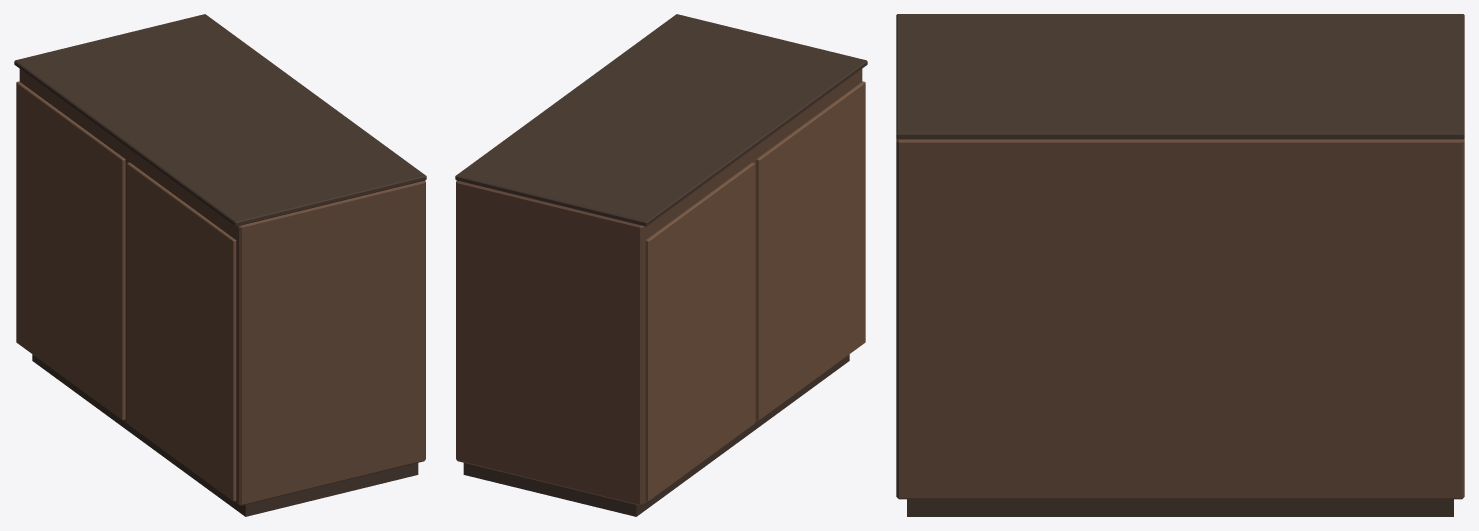
File: cabinet.glb
The picture shows the model from 3 angles, left to right: view 1: azimuth 30°, elevation 25°; view 2: azimuth 150°, elevation 25°; view 3: azimuth 270°, elevation 25°; orthographic projection. The views are drawn at different scales.
Visible parts, largest first — view 1: cabinet; view 2: cabinet; view 3: cabinet.
Part boxes in pixels (x1,y1,x2,y2): cabinet: (14,14,426,516); cabinet: (455,14,867,516); cabinet: (896,14,1464,516).
Bounding box in the file's own units: 0.8 × 1.2 × 1.6.
